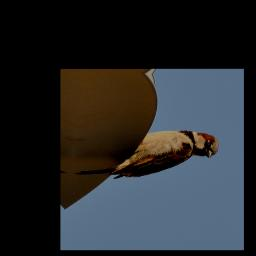Swallow: (74, 121, 221, 188)
